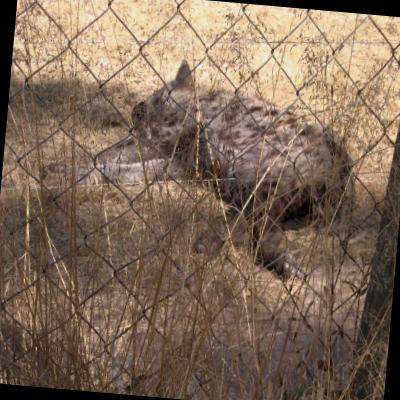hyenas: (106, 52, 380, 316)
